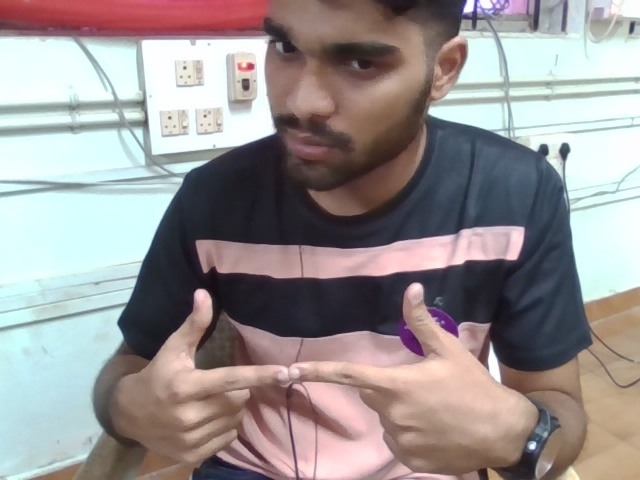hurt: (106, 260, 529, 480)
